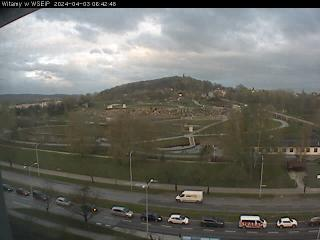car: (238, 215, 268, 230), (174, 190, 203, 204), (110, 206, 135, 219), (200, 214, 225, 227), (142, 210, 161, 222), (168, 214, 189, 224), (277, 218, 298, 228), (54, 197, 72, 208), (32, 190, 50, 200), (80, 204, 98, 213), (306, 215, 320, 226), (16, 188, 31, 197), (1, 184, 15, 193)
